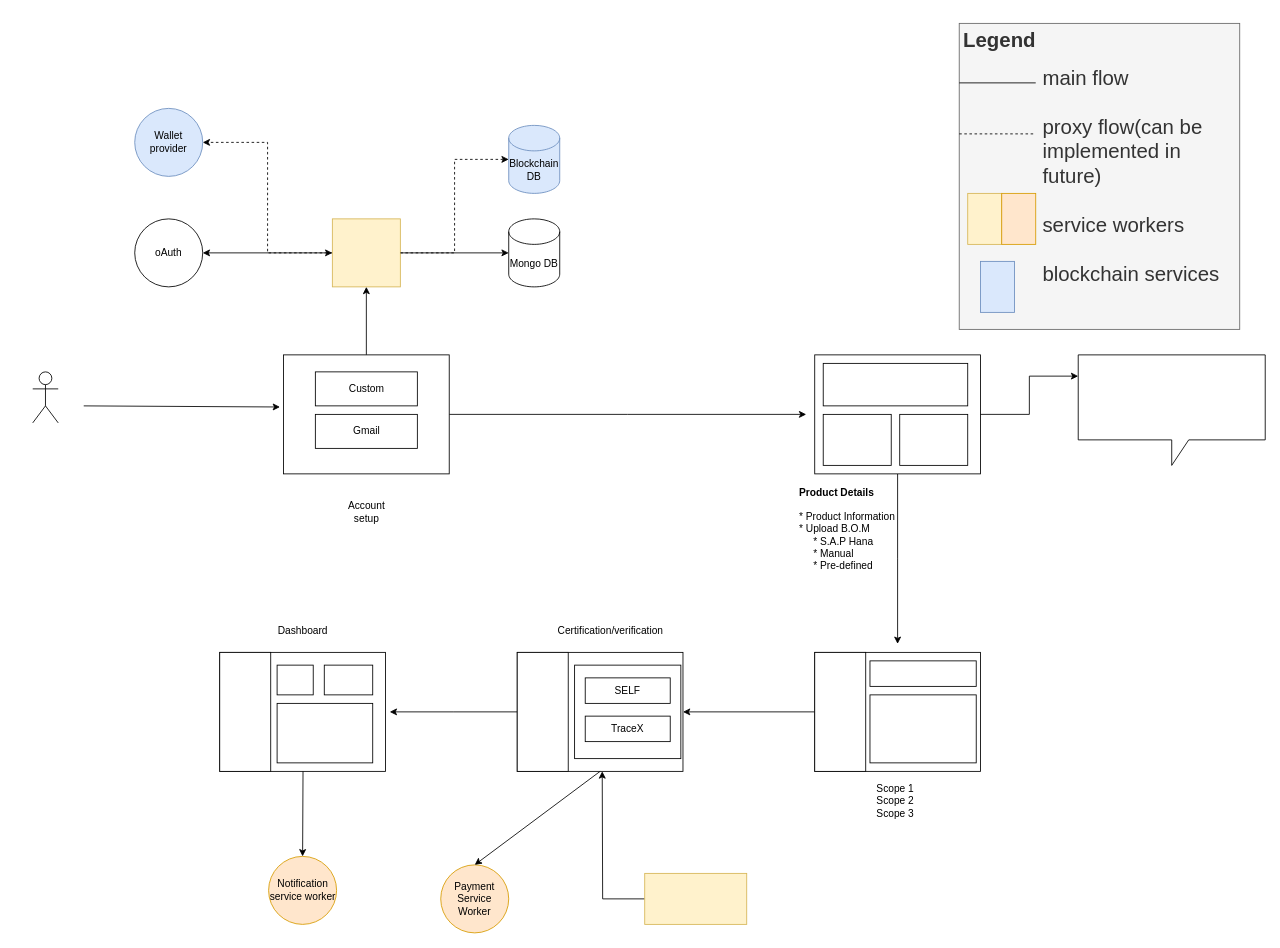
Some shapes in this 1280 by 948 pixel diagram are drawn without their labels. The shapes that lost their labels are listed below. From the top down, each one's box as (x1, y1, x2, y2) in pixels, then its label:
(332, 218, 400, 287): Email Verification Worker
(32, 371, 58, 423): Supplier
(1077, 354, 1265, 465): Email to Sub Suppliers
(644, 873, 747, 924): Verification service worker
